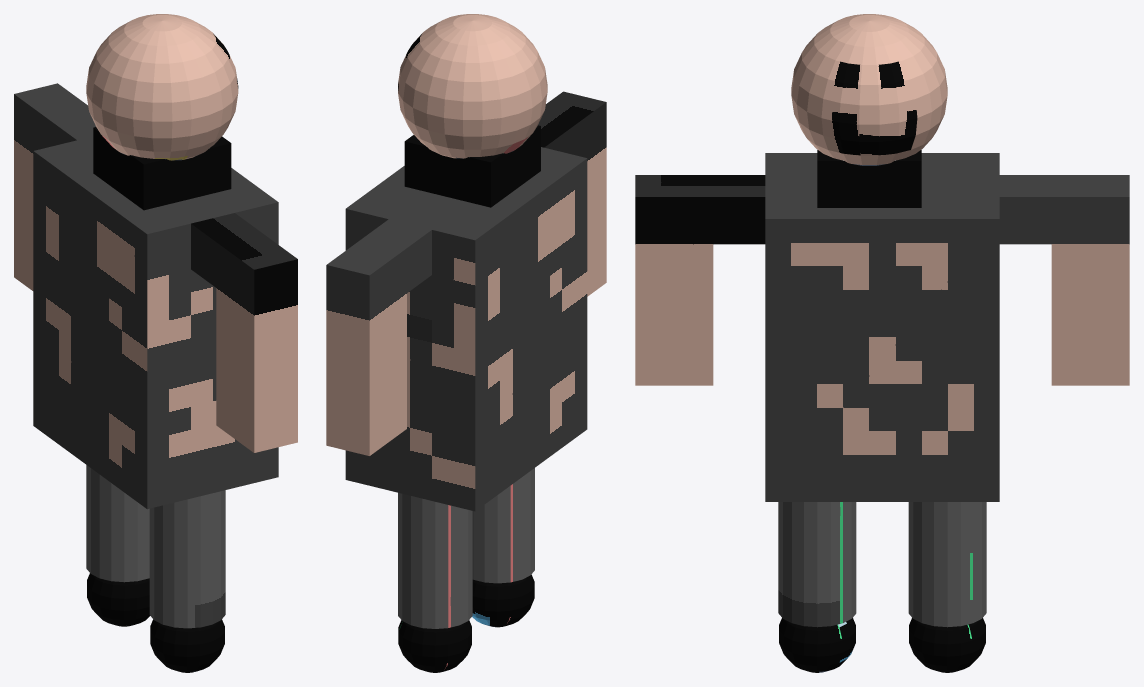
File: Player.gltf
3 views of the same model, side by side, from view 1: azimuth 30°, elevation 25°; view 2: azimuth 150°, elevation 25°; view 3: azimuth 270°, elevation 25° (orthographic). The views are drawn at different scales.
Visible parts, largest first — view 1: torso, cube (×5), sphere (×3), cylinder (×2); view 2: torso, cube (×5), sphere (×3), cylinder (×2); view 3: torso, cube (×5), sphere (×3), cylinder (×2).
Part boxes in pixels (bbox=[...]): torso: bbox=[33, 136, 278, 509]; cube (×5): bbox=[14, 83, 297, 452]; sphere (×3): bbox=[86, 14, 238, 672]; cylinder (×2): bbox=[86, 465, 225, 628]; torso: bbox=[345, 147, 587, 511]; cube (×5): bbox=[326, 91, 606, 455]; sphere (×3): bbox=[398, 14, 547, 672]; cylinder (×2): bbox=[398, 468, 534, 628]; torso: bbox=[765, 153, 999, 501]; cube (×5): bbox=[635, 149, 1129, 385]; sphere (×3): bbox=[779, 14, 985, 672]; cylinder (×2): bbox=[778, 502, 986, 627].
Size of the model in its own units: 0.375 by 1.72 by 1.19.
Materials: 7 (7 with a texture image).
